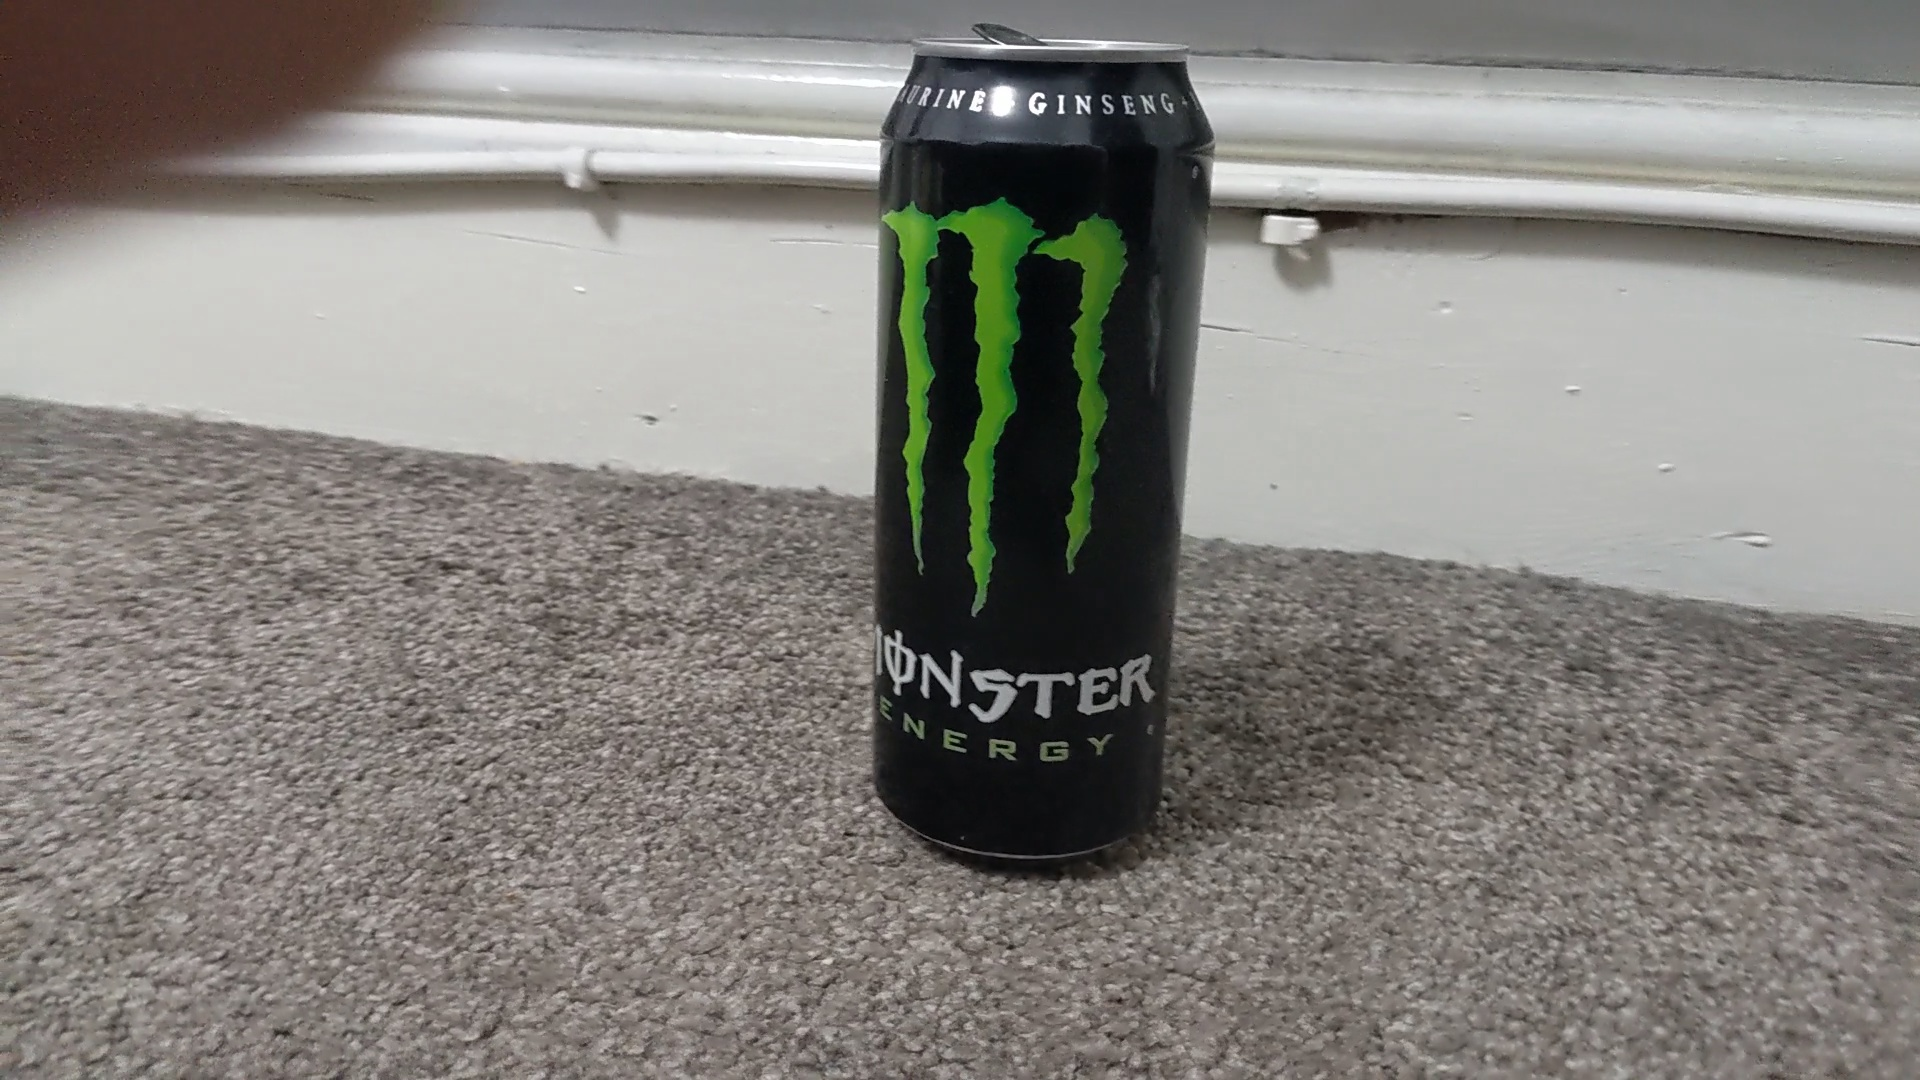monster-original: (872, 40, 1217, 862)
